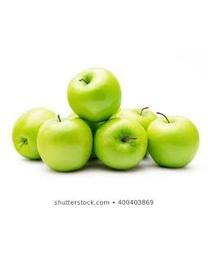apple: (37, 115, 92, 172), (66, 67, 121, 122), (147, 112, 199, 169), (94, 118, 147, 170), (11, 109, 57, 159), (117, 105, 158, 131)
